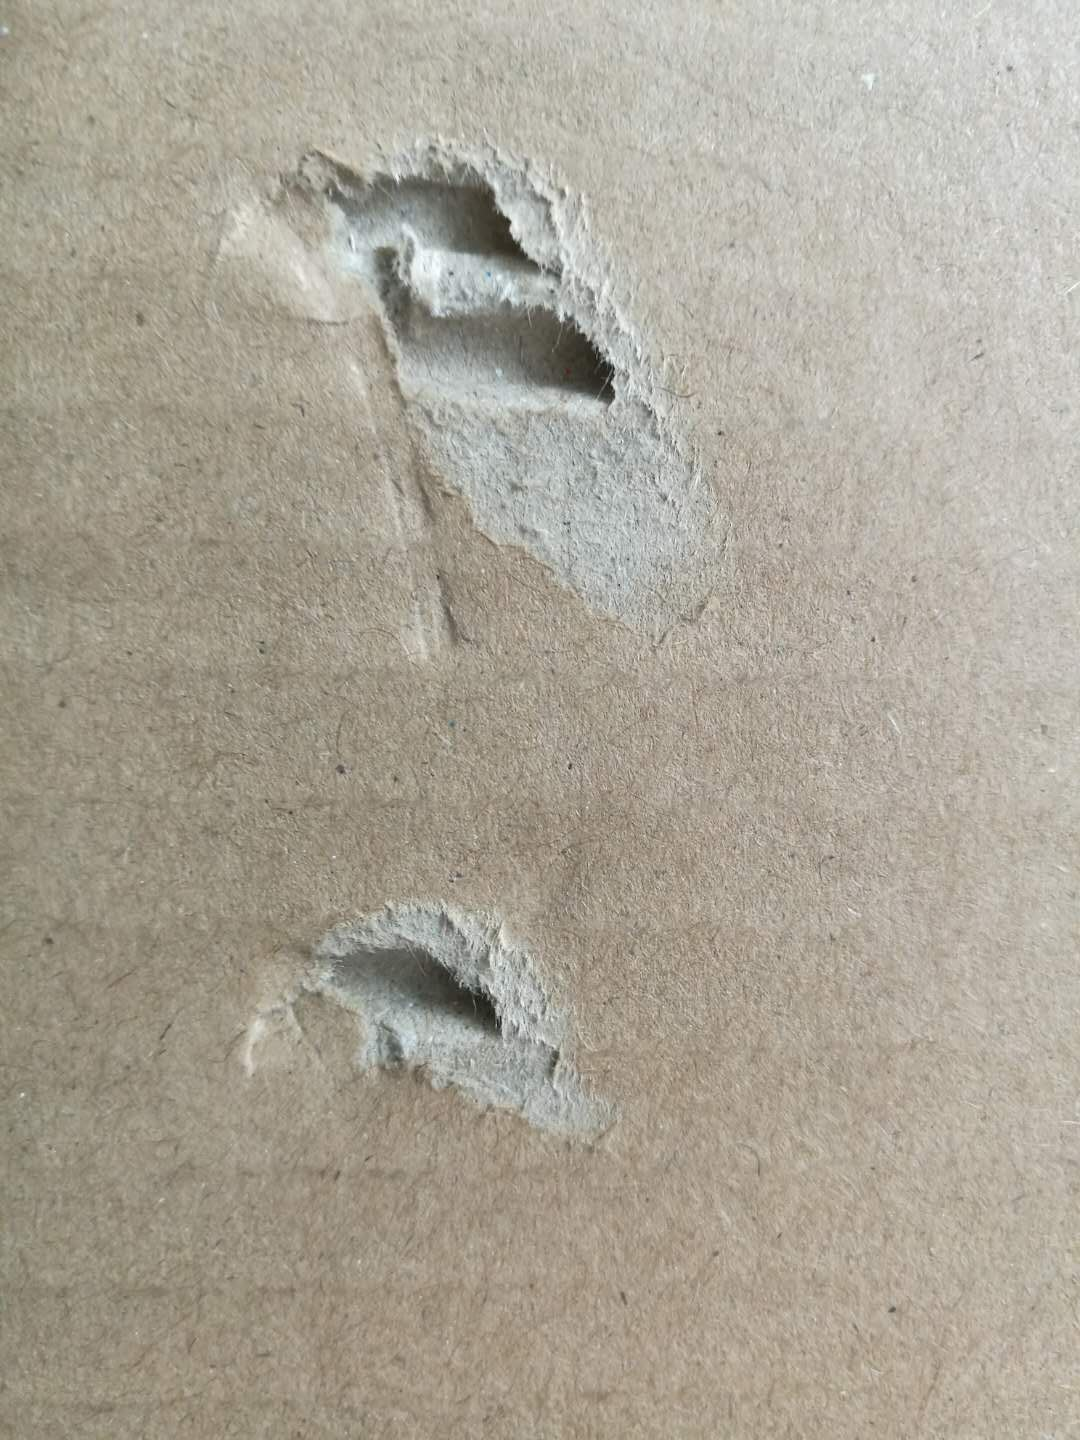defect: (191, 101, 765, 688), (219, 879, 632, 1162)
